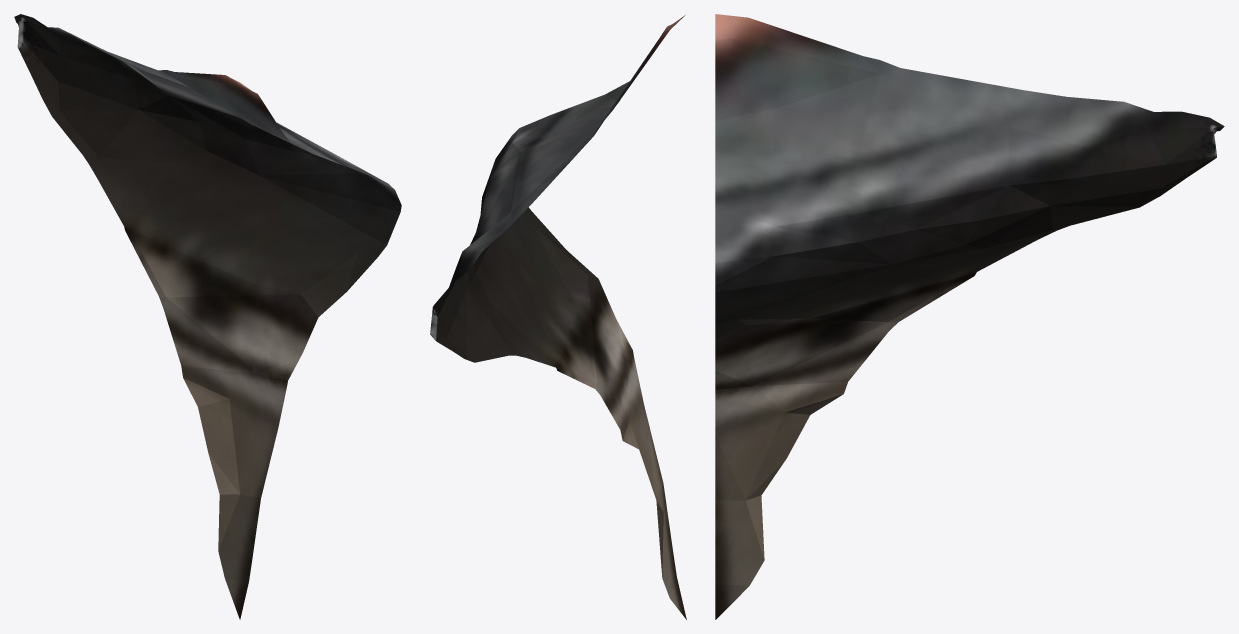
The picture shows the model from 3 angles, left to right: view 1: azimuth 30°, elevation 25°; view 2: azimuth 150°, elevation 25°; view 3: azimuth 270°, elevation 25°; orthographic projection. The views are drawn at different scales.
Bounding box in the file's own units: 0.1655 × 0.5258 × 0.4006.
Materials: 1 (1 with a texture image).
